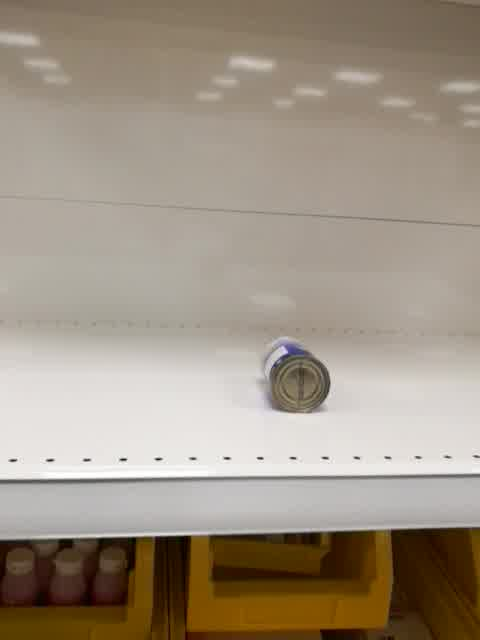sardine: (258, 335, 331, 415)
